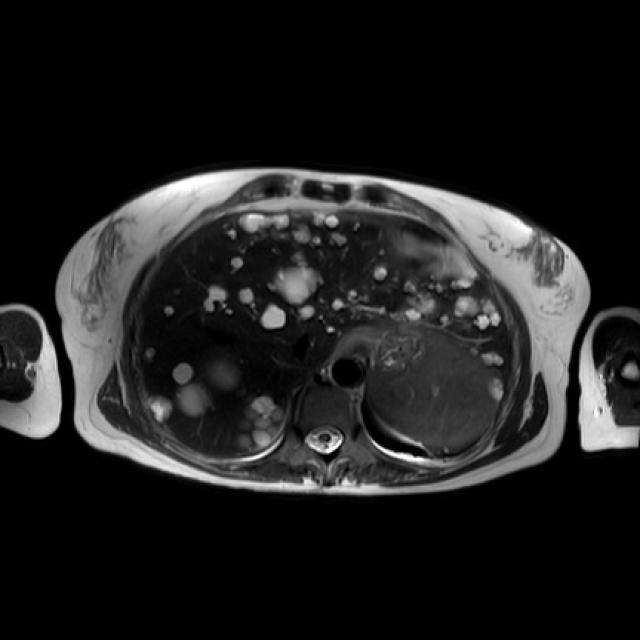sag: (237, 395, 286, 450)
